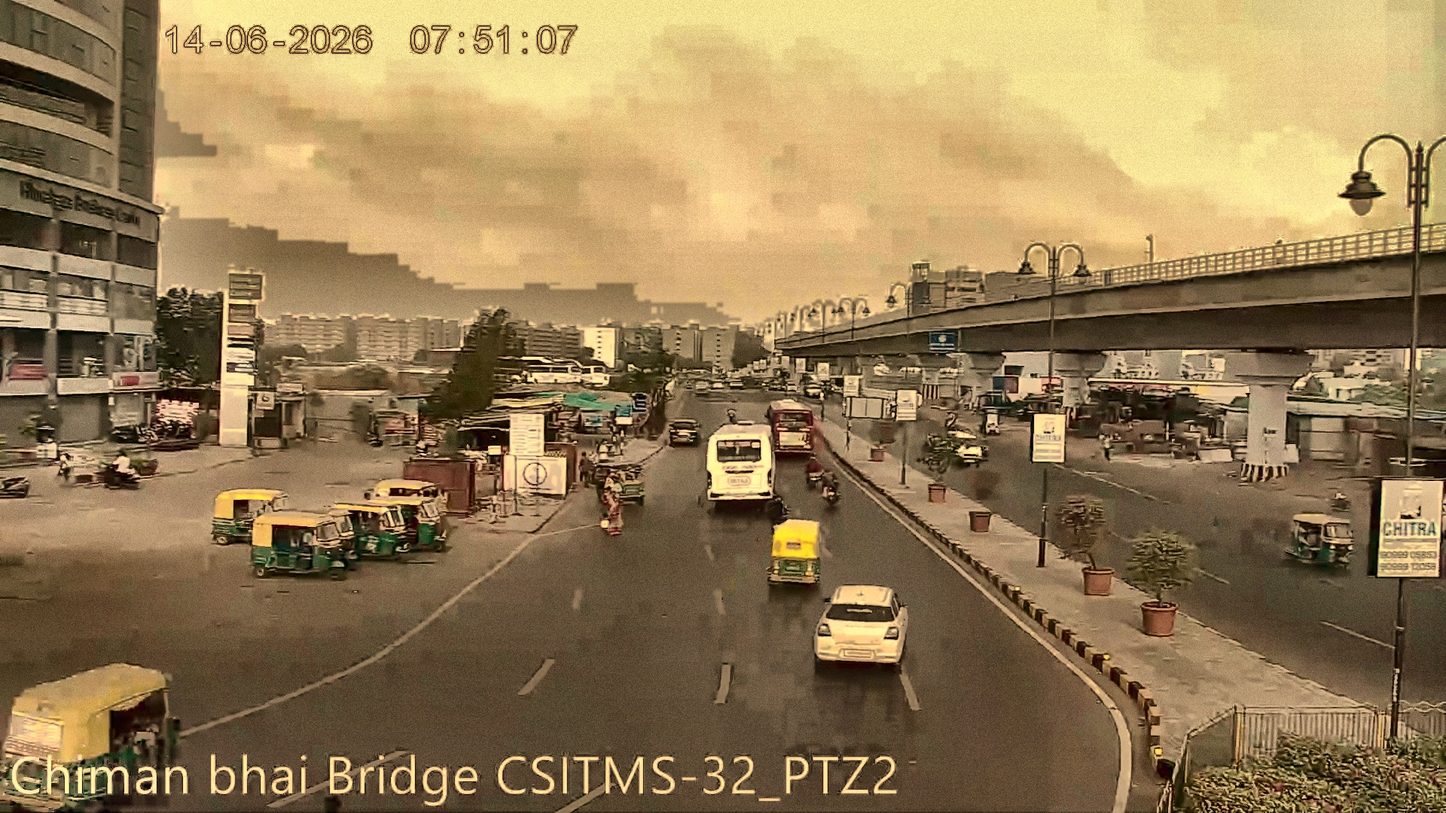auto_rickshaw: (1, 662, 184, 770), (247, 505, 355, 574), (365, 476, 452, 549), (208, 485, 287, 543), (768, 516, 824, 583), (667, 416, 700, 445)
bus: (704, 424, 776, 500)
car: (814, 580, 907, 667), (0, 463, 31, 500)
pedestrian: (597, 484, 625, 537)
two_wheeler: (822, 467, 843, 509)
